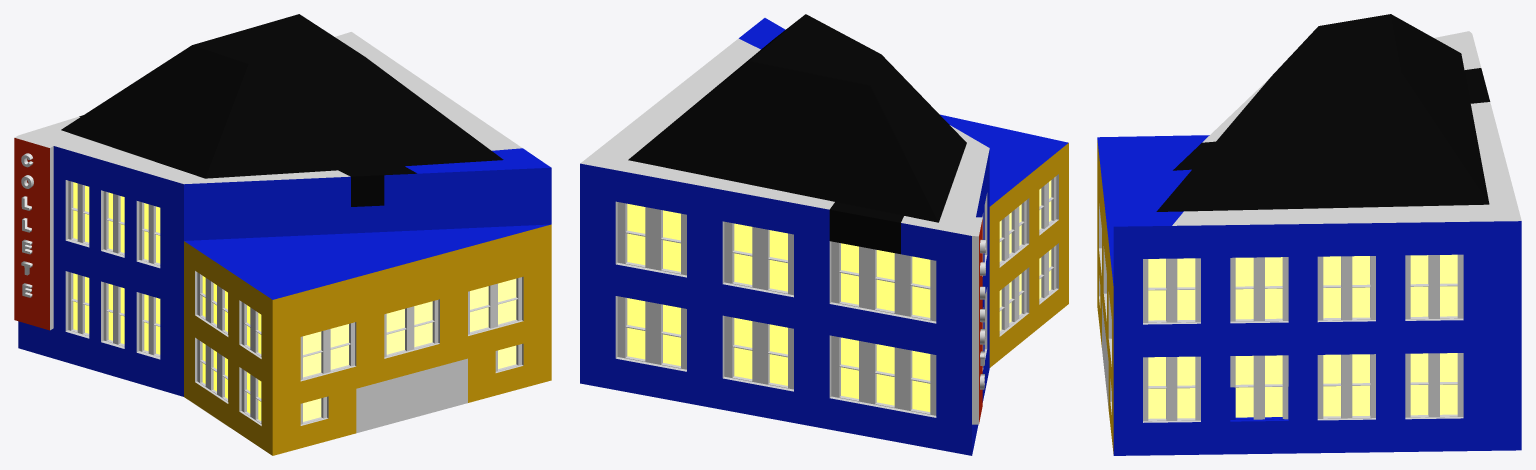
Rendered from collete_hotel_el_garcia_boulevard.fbx.
The picture shows the model from 3 angles, left to right: view 1: azimuth 30°, elevation 25°; view 2: azimuth 150°, elevation 25°; view 3: azimuth 270°, elevation 25°; orthographic projection. The views are drawn at different scales.
Visible parts, largest first — view 1: collete_EGB; view 2: collete_EGB; view 3: collete_EGB.
Part boxes in pixels (x1,y1,x2,y2): collete_EGB: (14, 14, 551, 455); collete_EGB: (580, 14, 1068, 455); collete_EGB: (1097, 14, 1521, 455).
Bounding box in the file's own units: 549 × 419 × 503.
